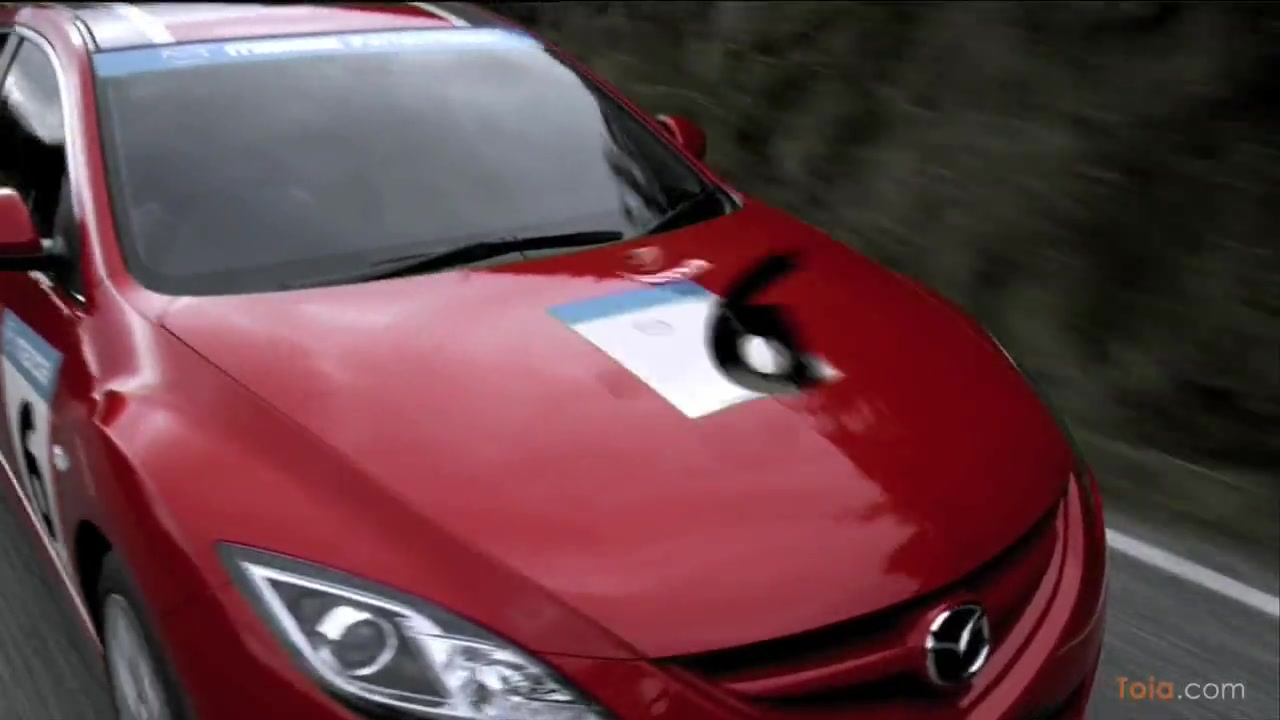car: (4, 3, 1113, 720)
